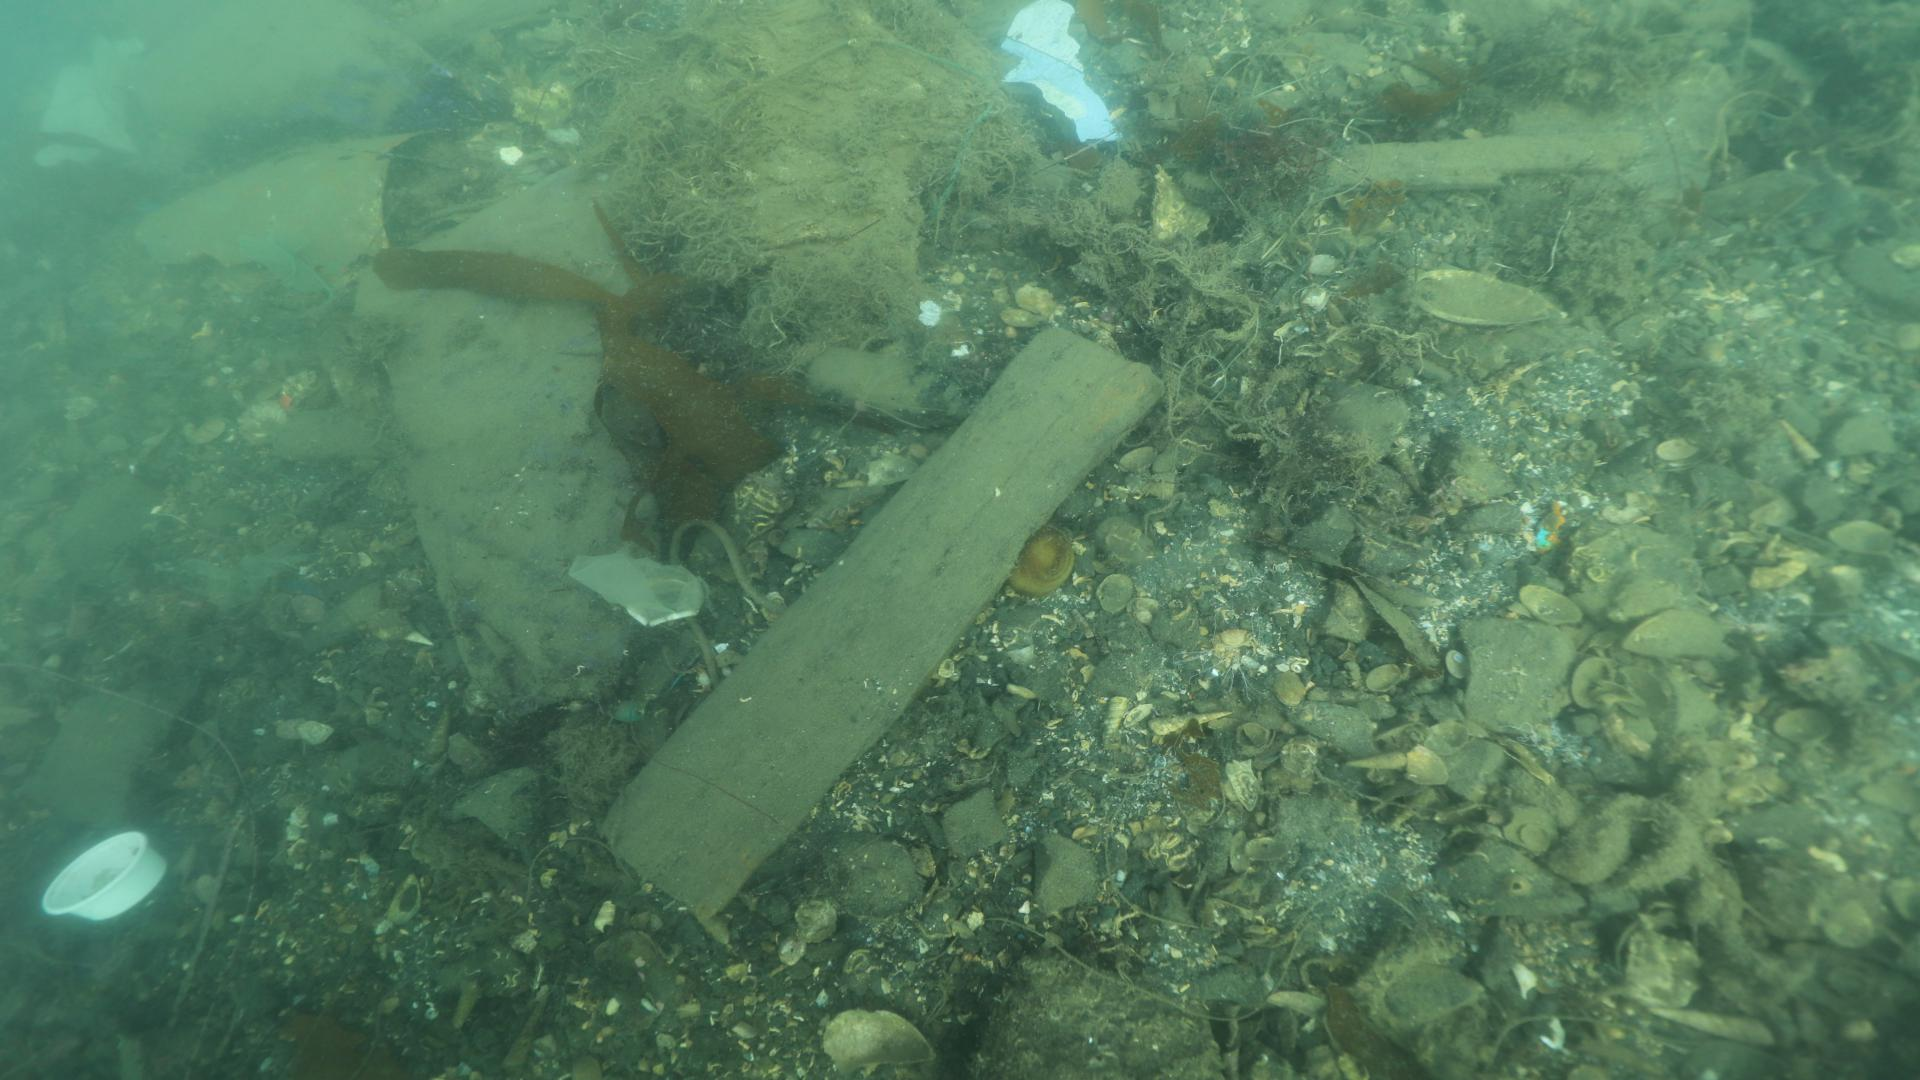wood: (595, 322, 1168, 920)
